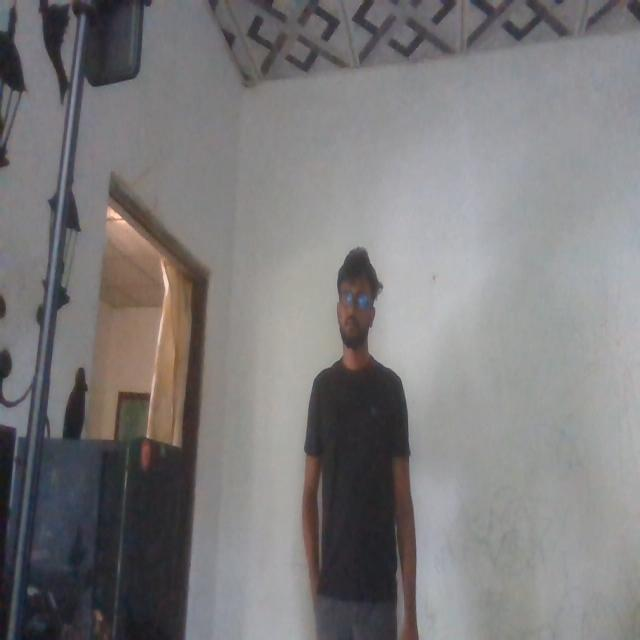Person: (302, 250, 418, 640)
